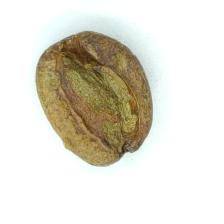NG: (52, 36, 142, 161)
